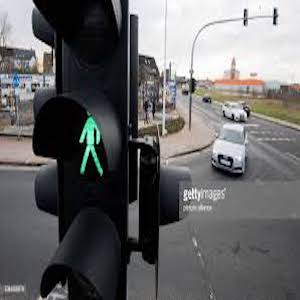green: (68, 108, 115, 174)
